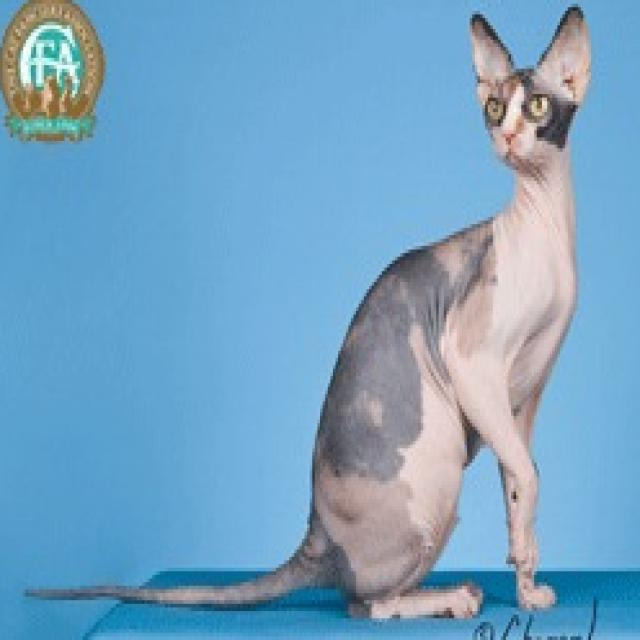Sphynx: (19, 0, 598, 626)
